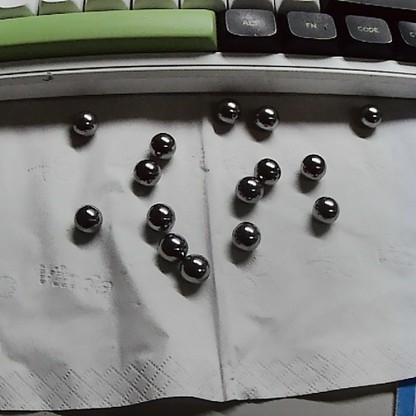ironball: (58, 193, 107, 238), (120, 151, 167, 191), (142, 128, 187, 165), (177, 249, 212, 292), (141, 200, 177, 235), (152, 234, 191, 265), (353, 99, 384, 136), (296, 146, 329, 180), (226, 218, 259, 252), (231, 175, 263, 210), (69, 106, 101, 141), (212, 93, 243, 128), (251, 104, 283, 134), (311, 191, 340, 223), (256, 160, 279, 185)
